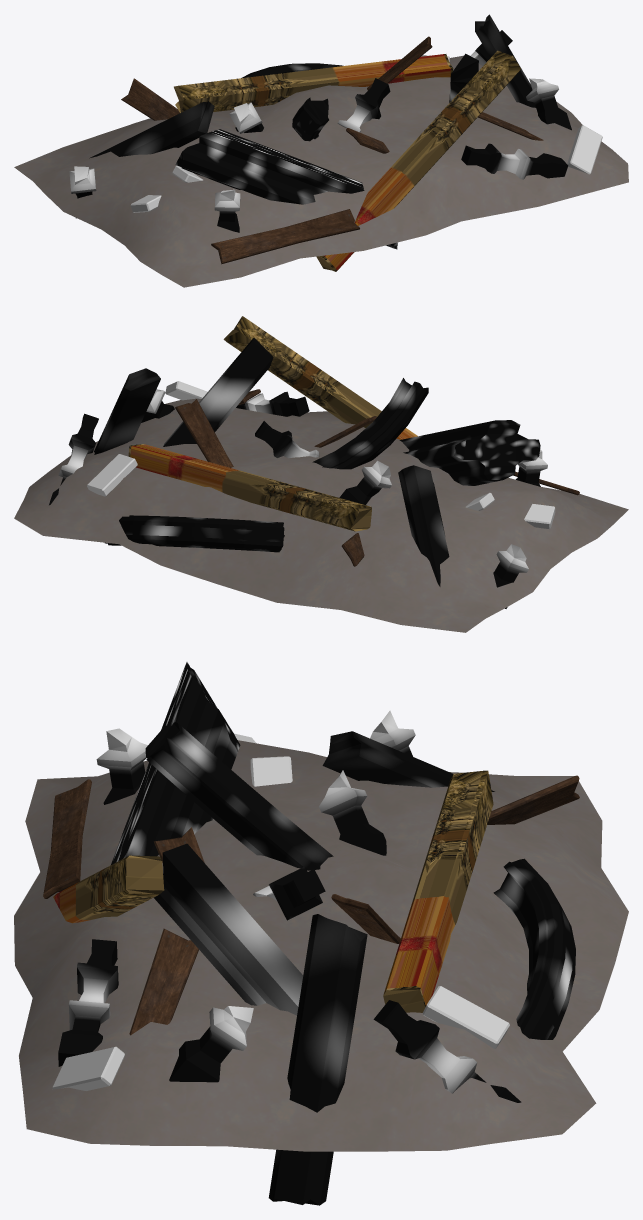
File: Rubble_C.fbx
3 views of the same model, one above another, from view 1: azimuth 30°, elevation 25°; view 2: azimuth 150°, elevation 25°; view 3: azimuth 270°, elevation 25° (orthographic). The views are drawn at different scales.
Visible parts, largest first — view 1: Rubble_C; view 2: Rubble_C; view 3: Rubble_C.
Part boxes in pixels (<box>): Rubble_C: <box>14,14,628,287</box>; Rubble_C: <box>14,316,628,632</box>; Rubble_C: <box>14,662,628,1205</box>.
Size of the model in its own units: 7.72 by 2.51 by 5.25.
